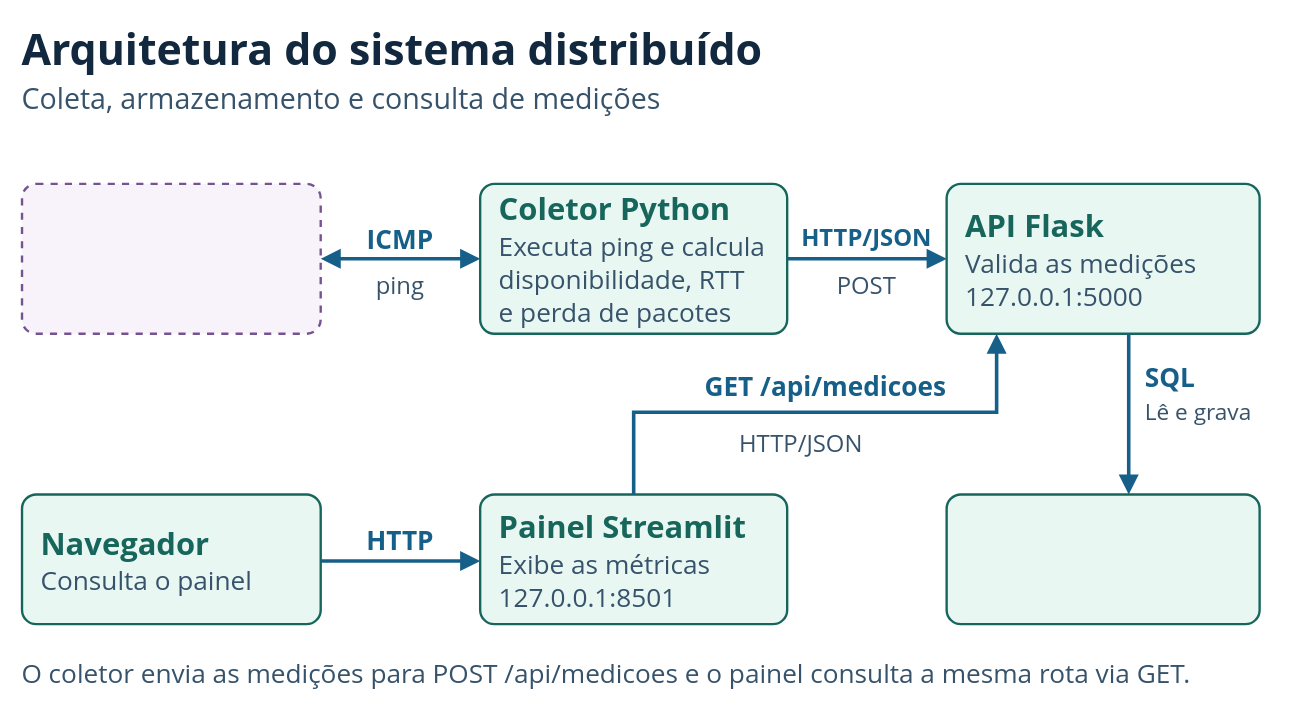
Image size: 1313x710. Some labels were removed from this diagram. Each missing label, with the box of its shape:
Alvos de teste SW-LAB e AP-LAB 127.0.0.1 e 127.0.0.2: (20, 182, 321, 334)
SQLite Mantém o histórico Arquivo local: (945, 493, 1260, 625)
